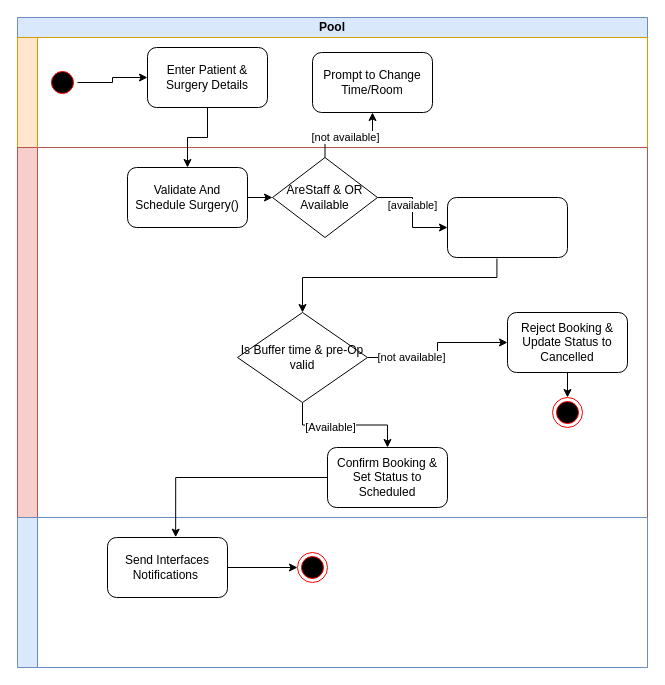
Some shapes in this 665 by 685 pixel diagram are drawn without their labels. Each missing label, with the box of its shape:
Notification System: (16, 516, 648, 668)
SurgicalScheduler: (16, 36, 648, 148)
System(RoomScheduler.cs): (16, 146, 648, 518)
Verify Buffer Time (30-40mins): (446, 196, 568, 258)
